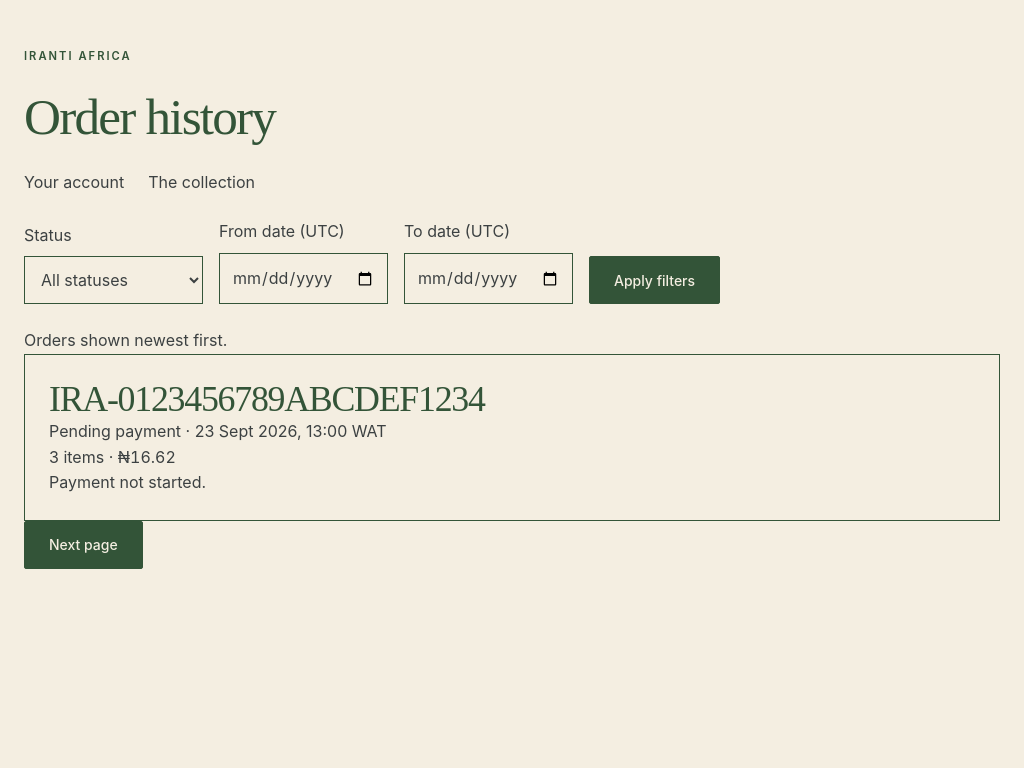
orders › renders order list and cursor navigation
This screenshot has width=1024, height=768.
What coordinates should you click on to do the following:
click the button "Next page"
I would click on:
 (83, 545)
Its box is [24,521,143,569].
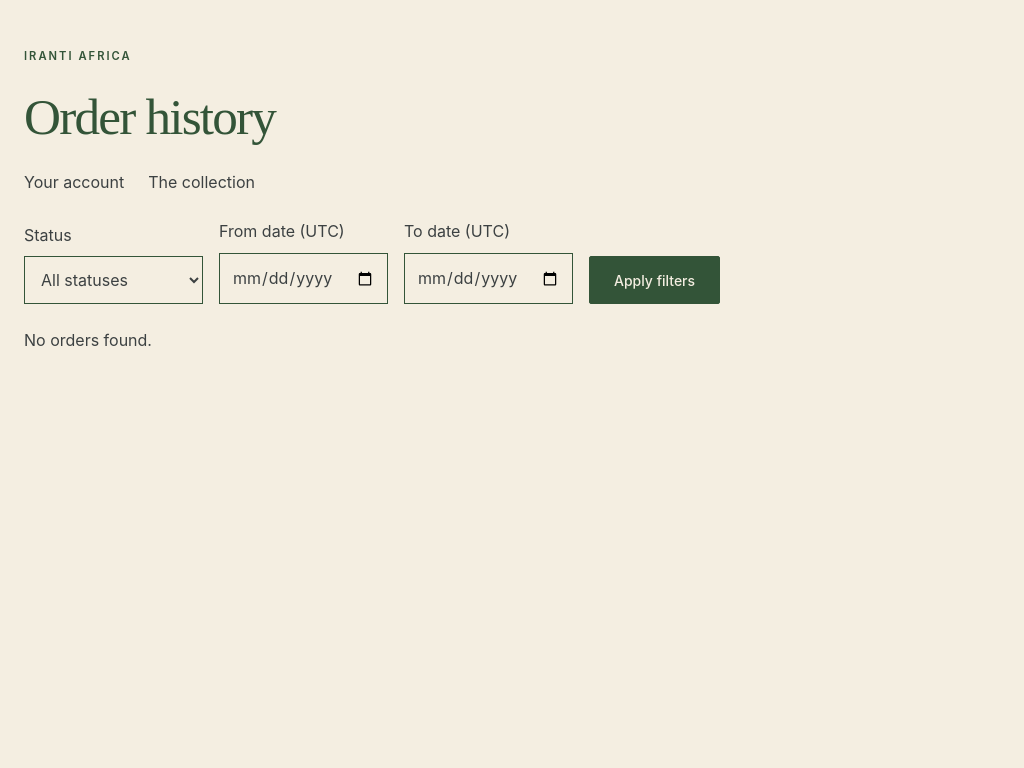
Check: the text "No orders found." is shown, box [24,330,152,350]
